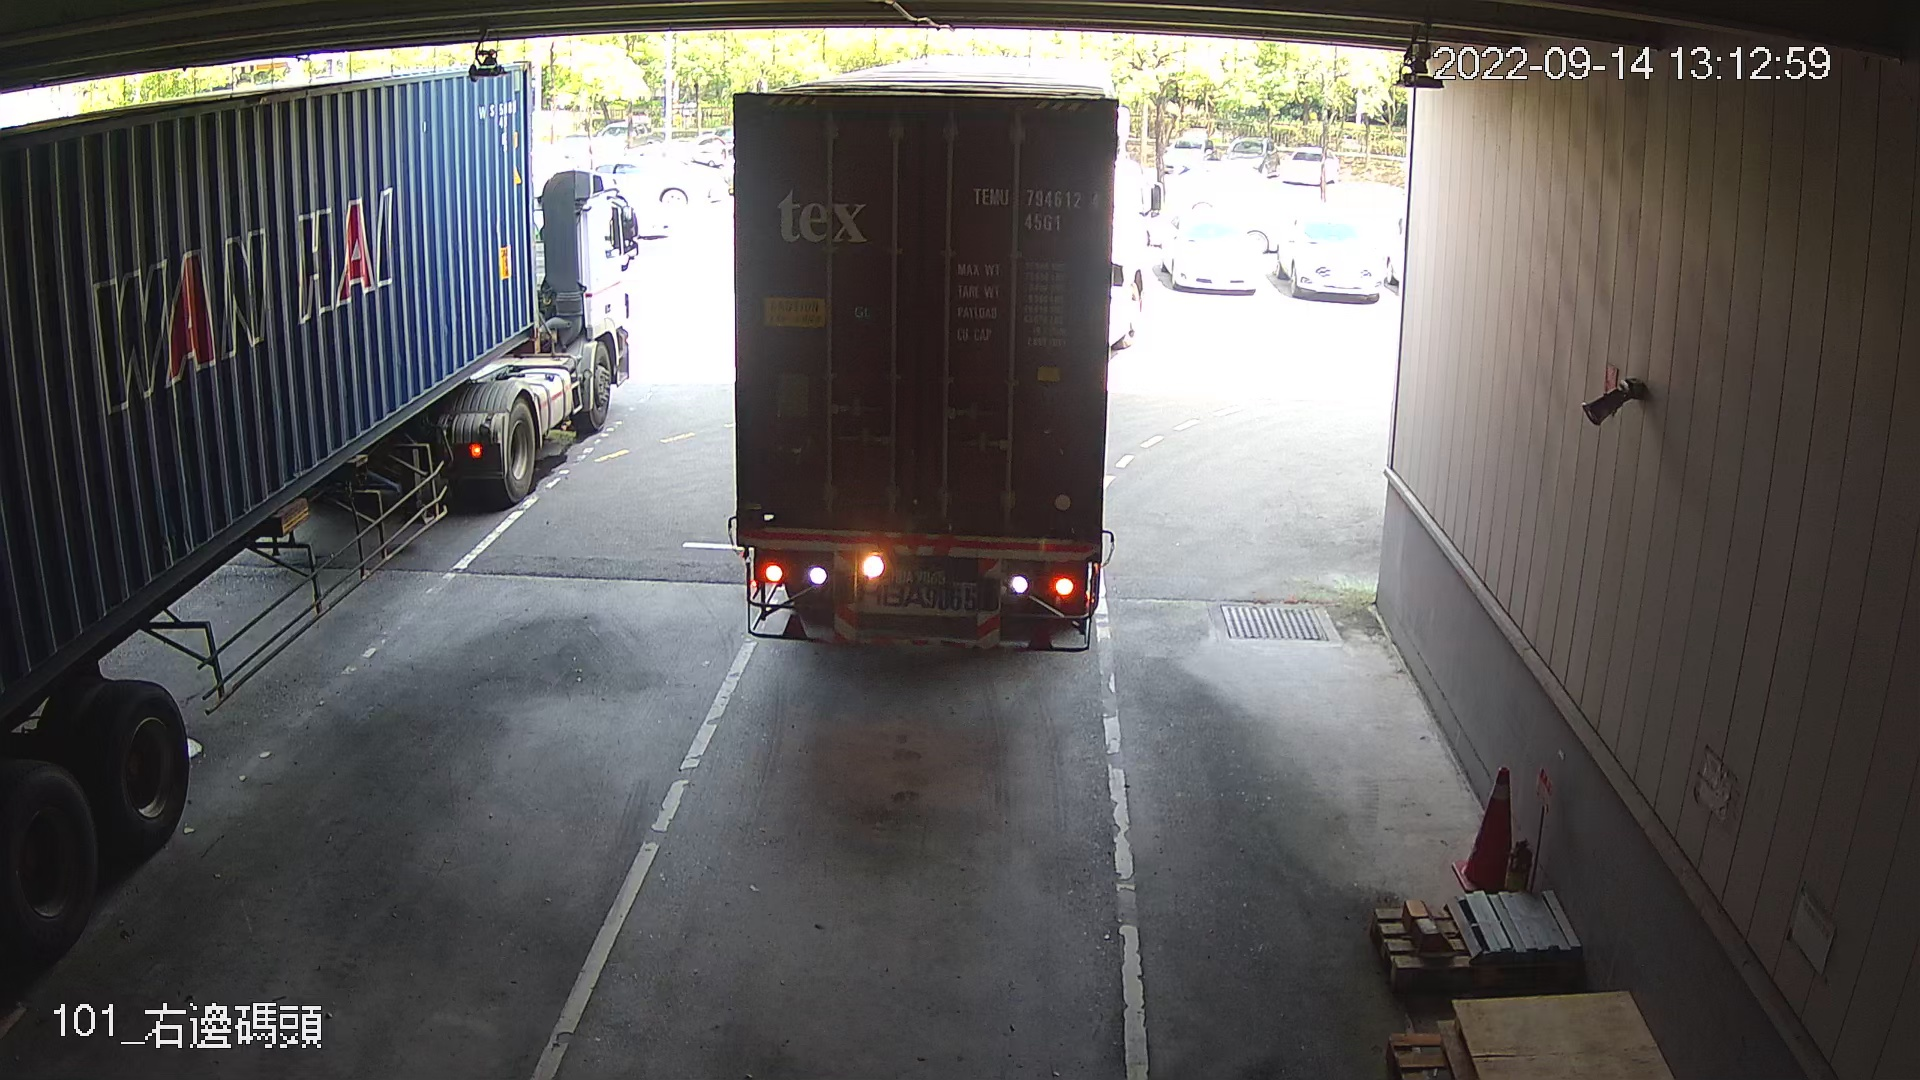container: (964, 177, 1106, 237)
